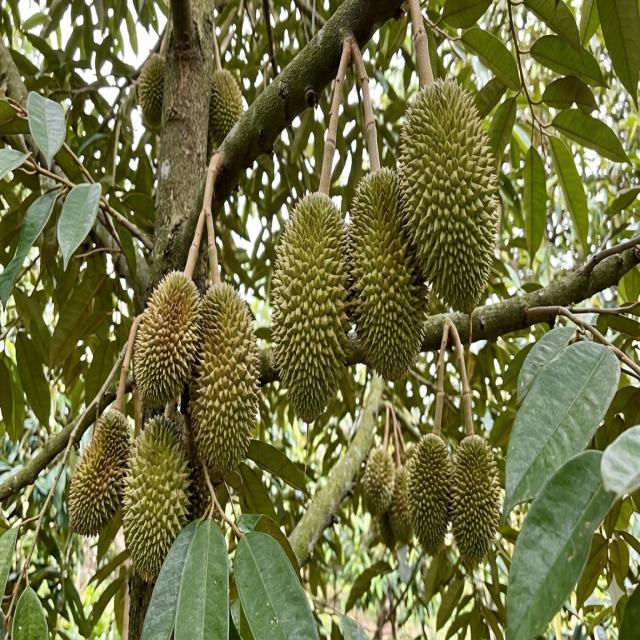immature: (398, 71, 499, 317), (270, 187, 355, 422), (349, 162, 431, 380), (188, 280, 262, 478), (120, 413, 194, 580), (133, 269, 205, 410), (68, 407, 133, 539), (448, 434, 502, 565), (405, 431, 454, 552), (210, 68, 245, 151), (95, 407, 133, 472), (363, 444, 396, 517), (137, 52, 167, 128), (386, 466, 413, 545), (378, 508, 398, 552), (206, 132, 219, 168)
